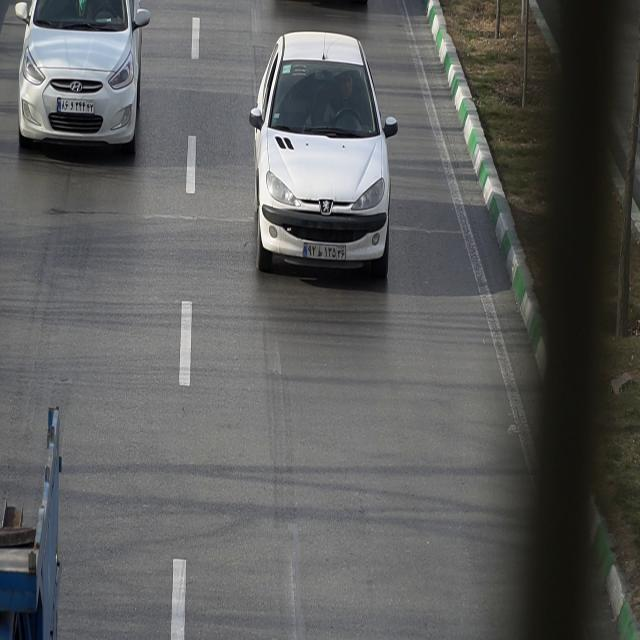car: (249, 35, 398, 272), (15, 0, 149, 148)
